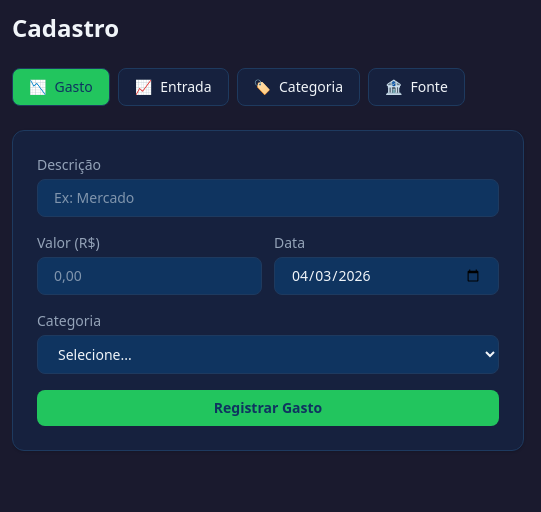
Test: PaginaCadastro › exibe erro da API ao falhar no cadastro de gasto
Expected: the button "Registrar Gasto" is shown, [37, 390, 499, 426]
Type "Teste" into the field labelled "Descrição". click: point(268, 198)
box: [37, 179, 499, 217]
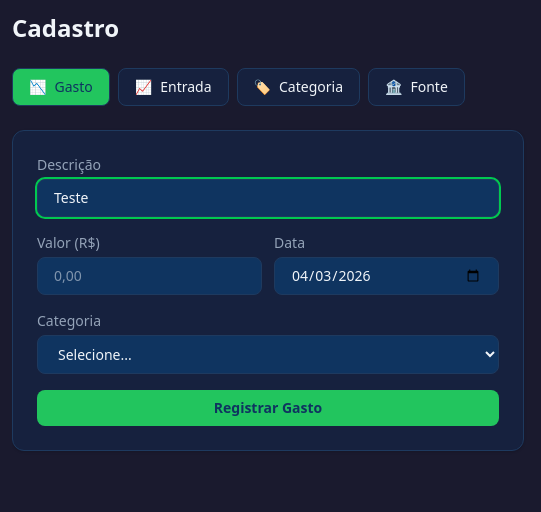
Type "10" into the number field labelled "Valor (R$)". click: point(150, 276)
box: [37, 257, 262, 295]
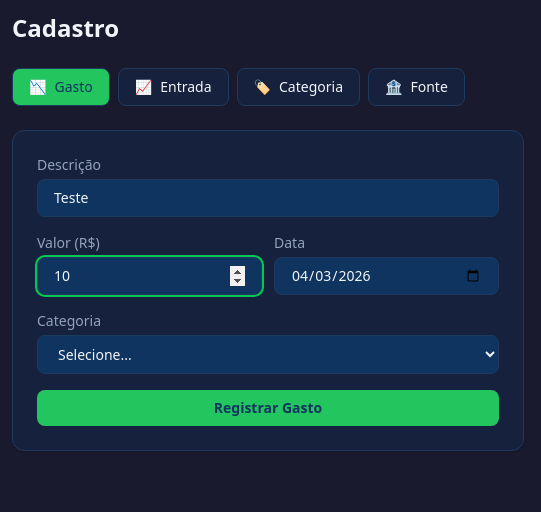
Select "Alimentação" in the dropdown labelled "Categoria". click: point(268, 354)
box: [37, 335, 499, 374]
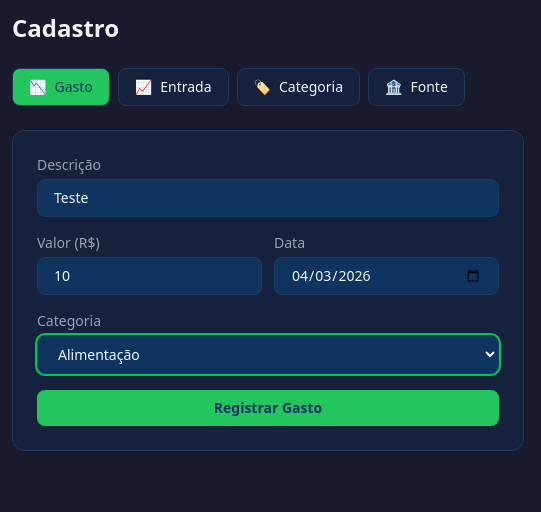
Click the button "Registrar Gasto". click: point(268, 408)
box: [37, 390, 499, 426]
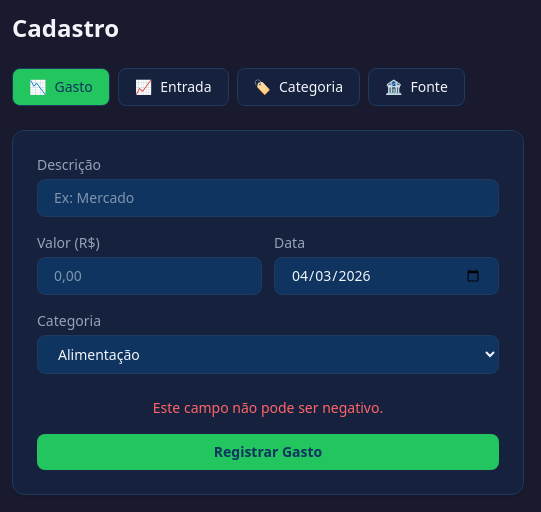
Expected: the text "Este campo não pode ser negativo." is shown, [153, 398, 383, 417]
